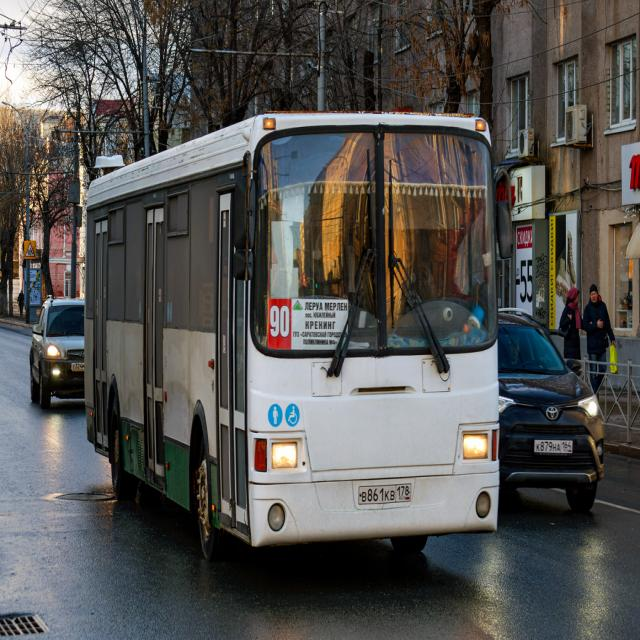number-of-bus: (268, 305, 292, 344)
